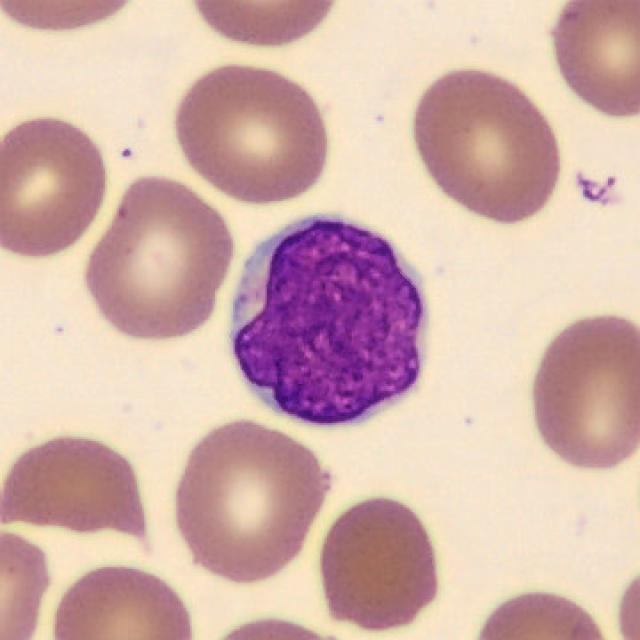Linfocito: (231, 219, 423, 427)
